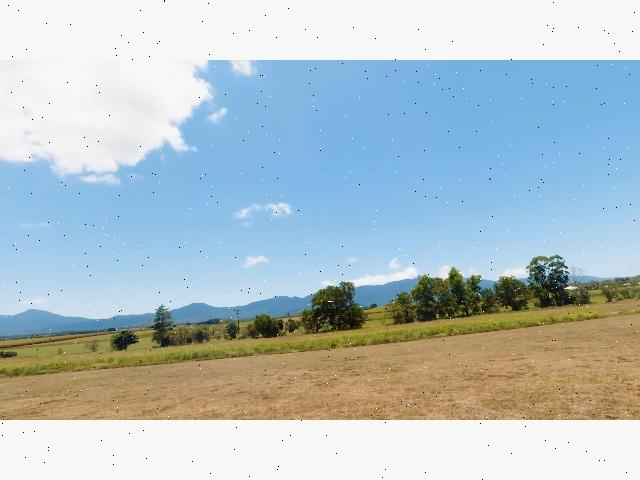Anti-Drone: (322, 295, 344, 310)
